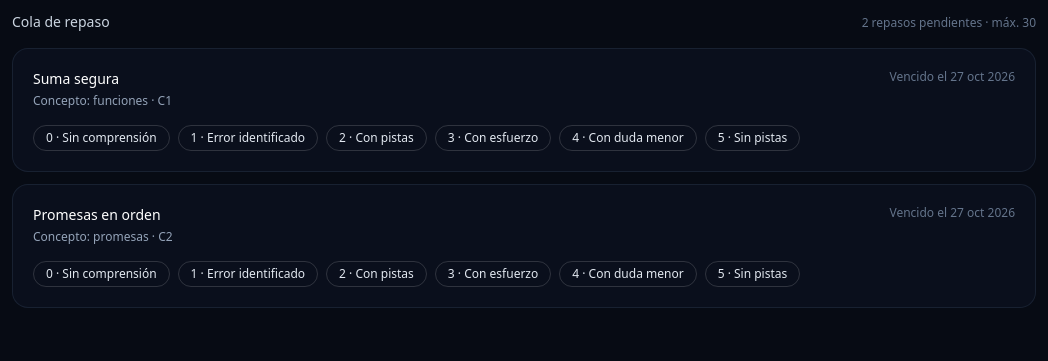
Test: ReviewQueue › mantiene el ítem y explica el fallo si no se puede responder
Expected: the text "Suma segura" is shown, x1=33 y1=69 x2=119 y2=88
Click the button with aria-label "Calidad 2: Con pistas".
click(376, 138)  # box x1=326 y1=125 x2=427 y2=151
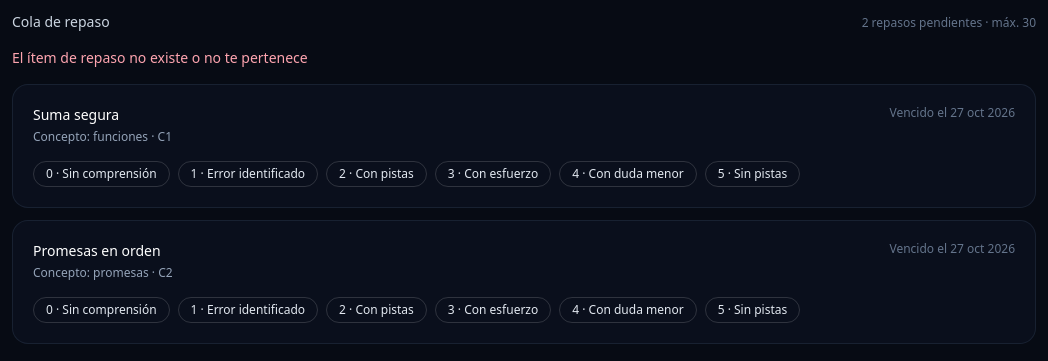
Expected: the text "Suma segura" is shown, x1=33 y1=105 x2=119 y2=124
Result: the message reads "El ítem de repaso no existe o no te pertenece" at x1=12 y1=48 x2=308 y2=67
